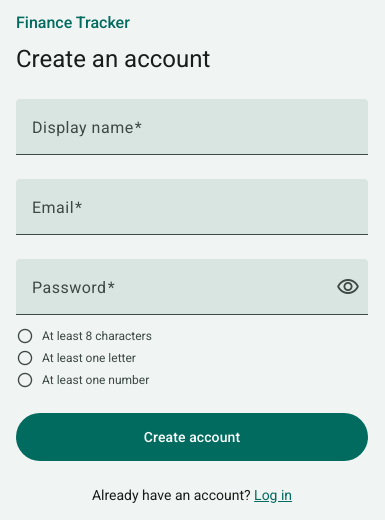
Test: RegisterComponent › registers with a trimmed name, shows a loading state and starts onboarding
The image size is (385, 520).
Type " Kasia " into the field labelled "Display name" at coordinates (192, 135), box [32, 123, 352, 147]
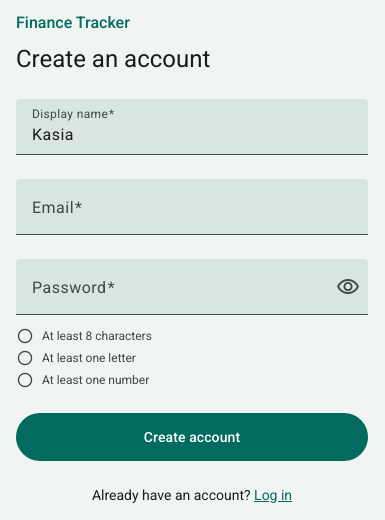
Type "kasia@example.com" into the field labelled "Email" at coordinates (192, 215), box [32, 203, 352, 227]
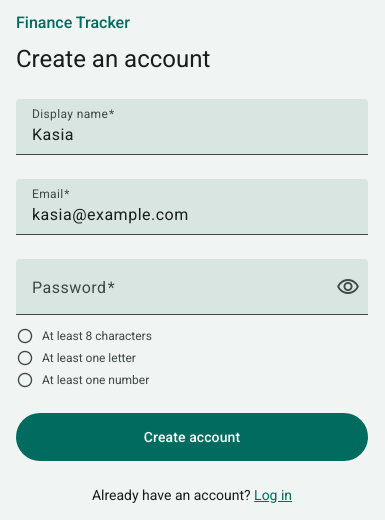
Type "kasia2026" into the password field labelled "Password" at coordinates (178, 295), box [32, 283, 324, 307]
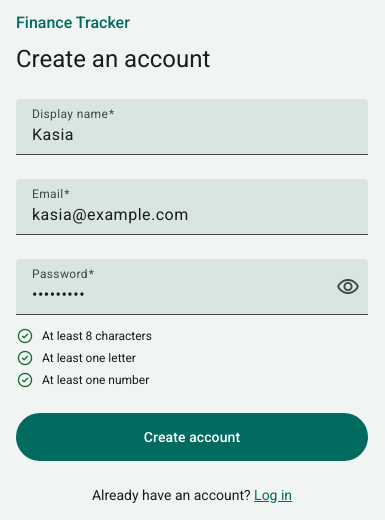
Click the submit button at coordinates (192, 437), box [16, 413, 368, 461]
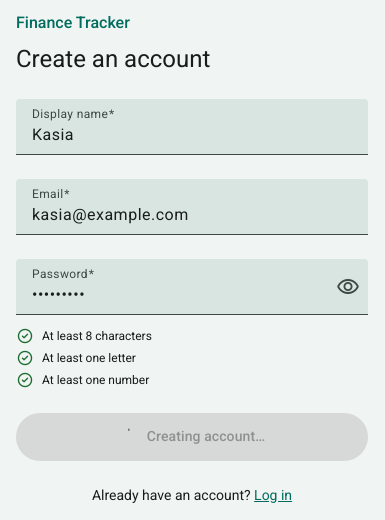
Result: the submit button reads "Creating account…" at [16, 413, 368, 461]
